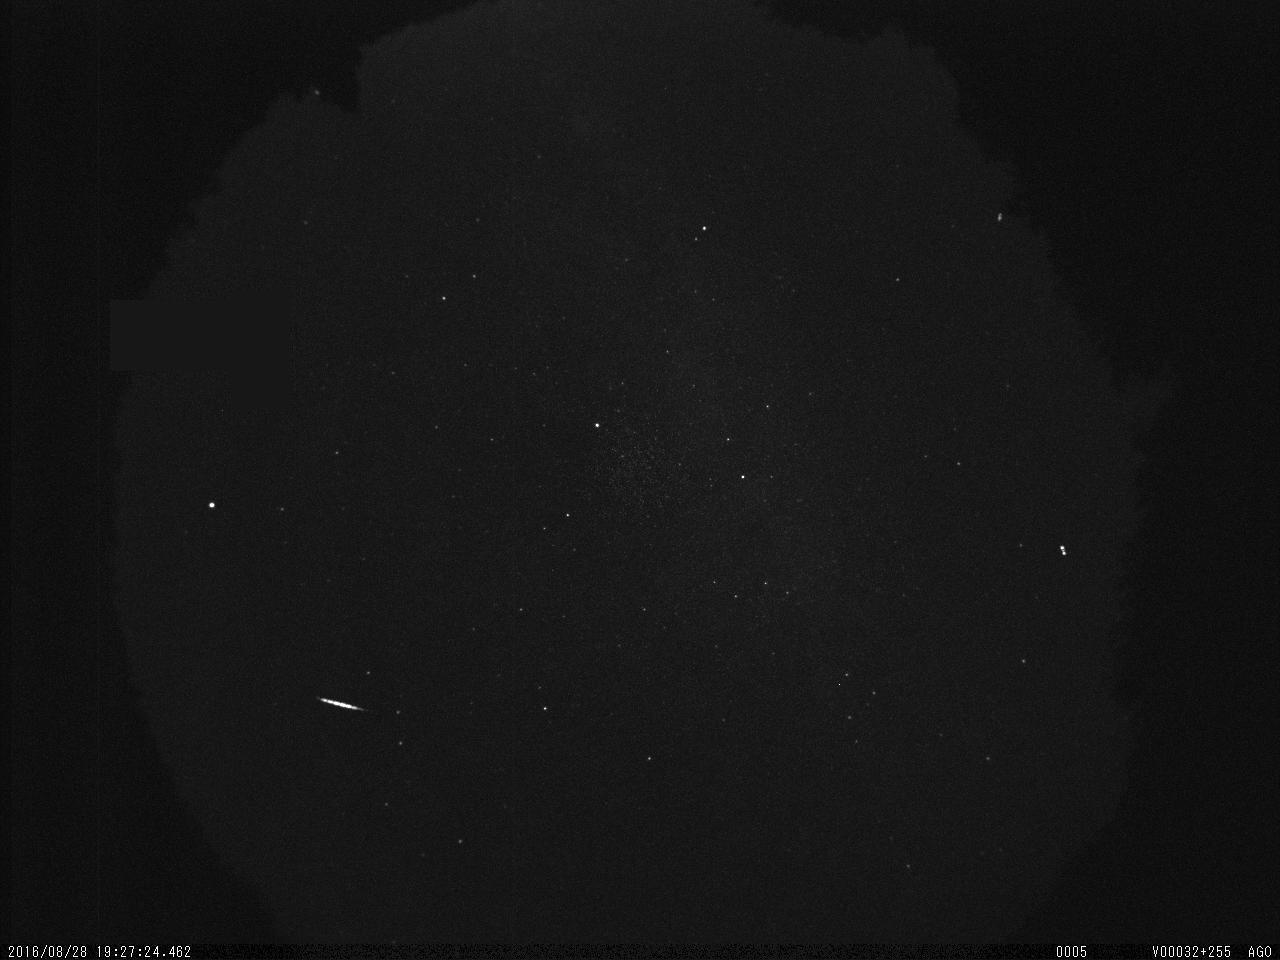meteor: (306, 684, 373, 733)
